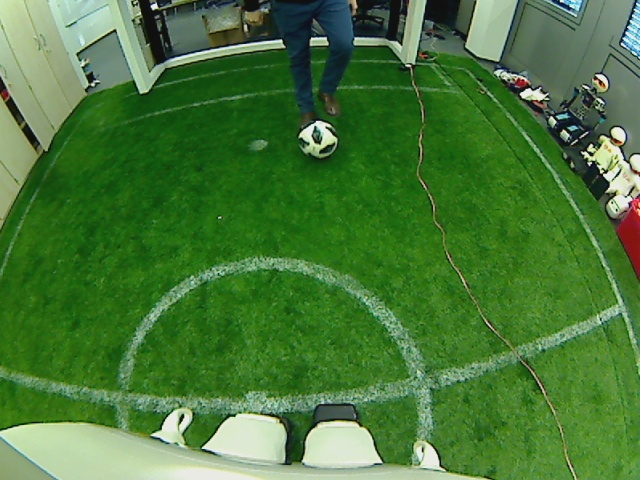ball: (297, 119, 340, 160)
